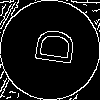D: (25, 25, 76, 67)
